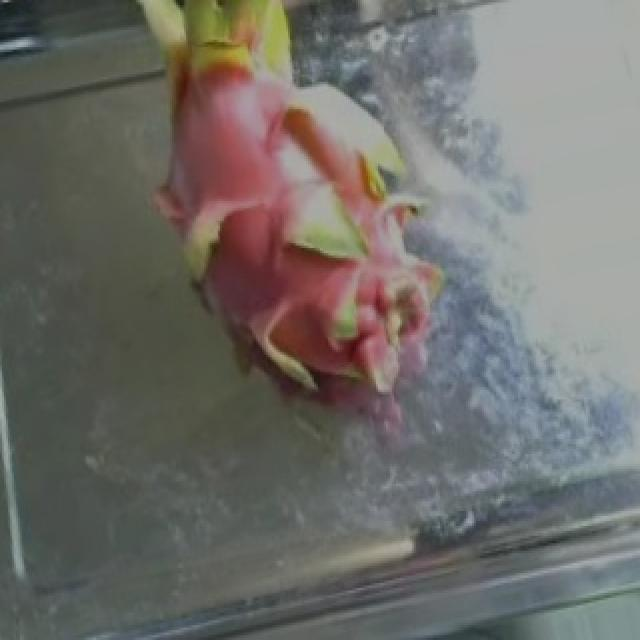fruit: (82, 0, 488, 429)
